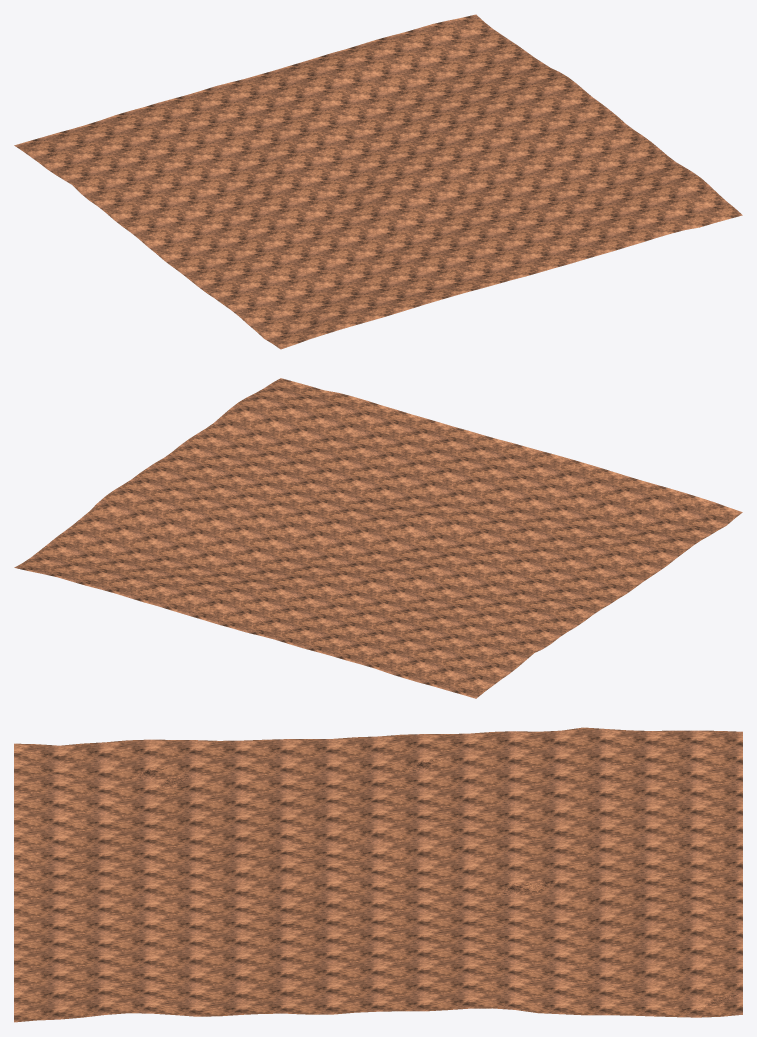
File: terrain_05_22.dae
3 renders of one model, top to bottom at view 1: azimuth 30°, elevation 25°; view 2: azimuth 150°, elevation 25°; view 3: azimuth 270°, elevation 25°, orthographic. The views are drawn at different scales.
Visible parts, largest first — view 1: terrain_05_22-node; view 2: terrain_05_22-node; view 3: terrain_05_22-node.
Part boxes in pixels (x1,y1,x2,y2): terrain_05_22-node: (14, 14, 742, 349); terrain_05_22-node: (14, 378, 742, 698); terrain_05_22-node: (14, 727, 742, 1022).
Bounding box in the file's own units: 128 × 128 × 8.77.
Materials: 1 (1 with a texture image).
